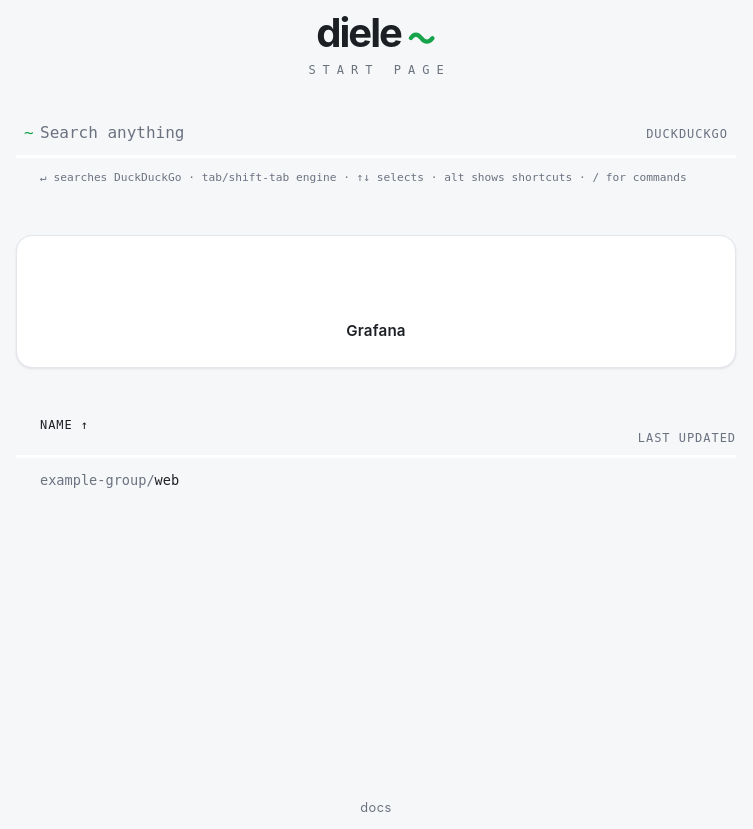
it: searching › offers the slash menu when the term is a slash
Expected: the link "Grafana" is shown, left=16, top=235, right=736, bottom=368
In the dropdown with placeholder "Search anything": (335, 132) left=40, top=123, right=630, bottom=142, type "/"
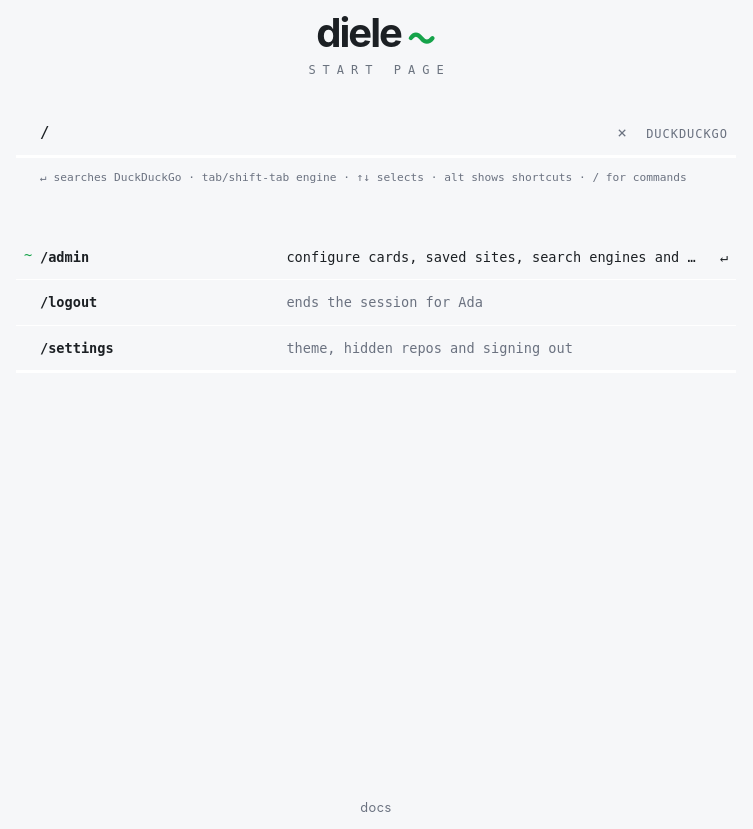
Now the text "/settings" is shown, box left=40, top=340, right=114, bottom=356
Now the text "/logout" is shown, box left=40, top=294, right=97, bottom=310
